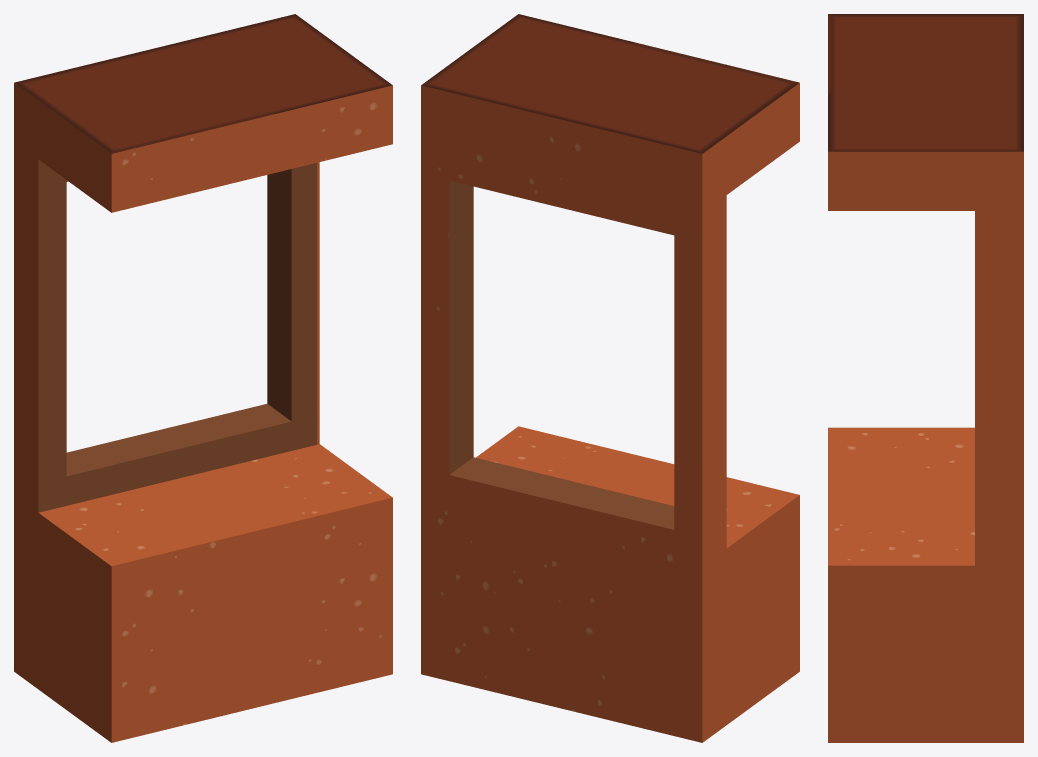
Rendered from Wall_100cmWindow.fbx.
3 views of the same model, side by side, from view 1: azimuth 30°, elevation 25°; view 2: azimuth 150°, elevation 25°; view 3: azimuth 270°, elevation 25° (orthographic).
Parts seen in each view (by area): view 1: Wall_100cmWindow; view 2: Wall_100cmWindow; view 3: Wall_100cmWindow.
Boxes of the visible parts, box(x1,y1,x2,y2) form: Wall_100cmWindow: box(14, 14, 392, 742); Wall_100cmWindow: box(421, 14, 799, 742); Wall_100cmWindow: box(828, 14, 1023, 742).
Bounding box in the file's own units: 100 × 200 × 60.
